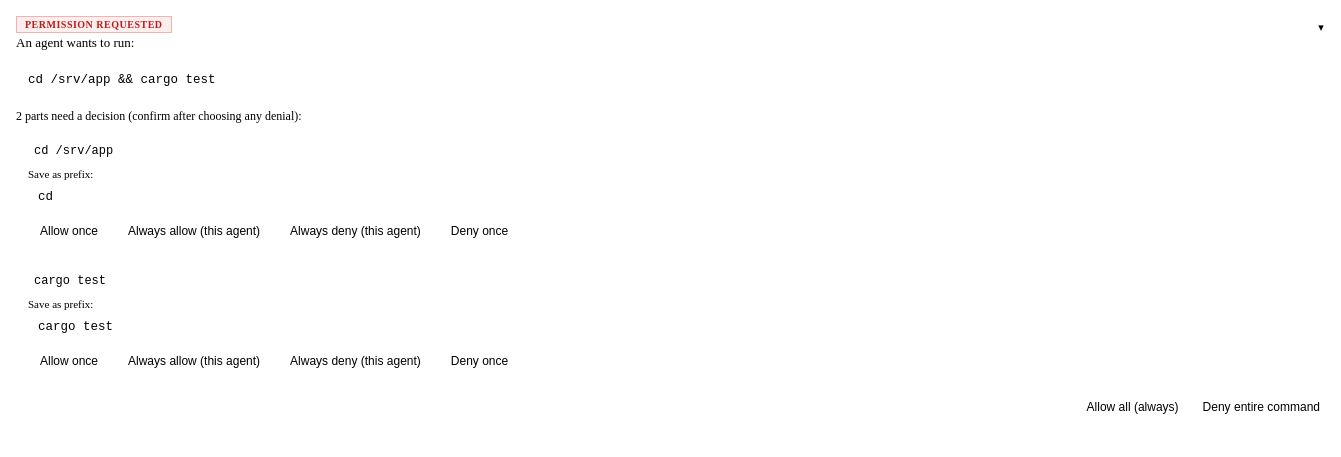
Test: ApprovalCard — what the bulk "allow all" click actually saves › does not list the decided part under "This click saves"
Click the 1st button "Always allow (this agent)" at (194, 231), box [116,218,272,244]
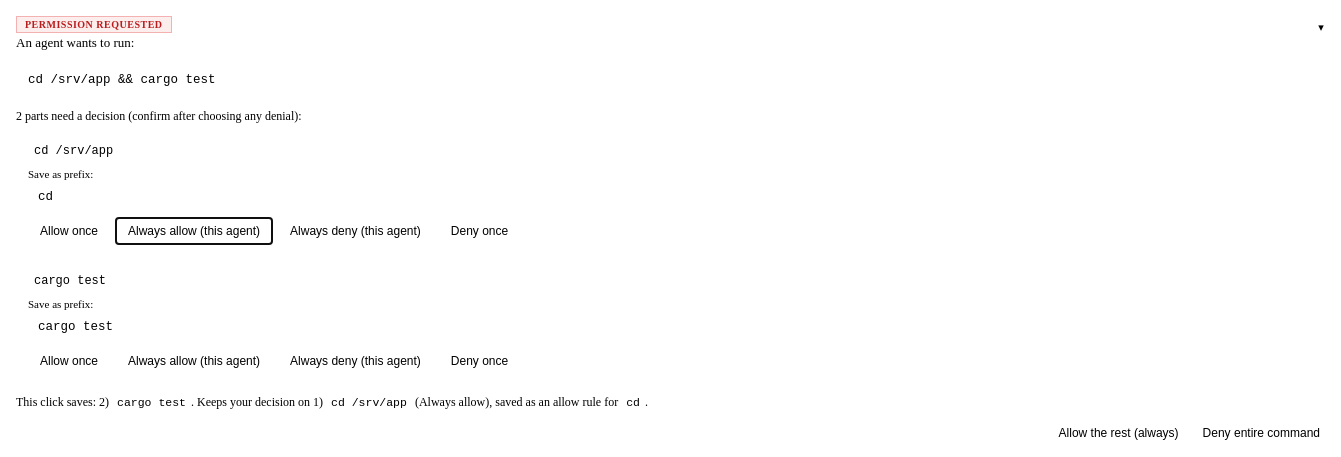
Expected: the text "This click saves: 2) cargo test." does not show "cd", [16,395,197,409]
Result: the text "This click saves: 2) cargo test." is shown at [16,395,197,409]
